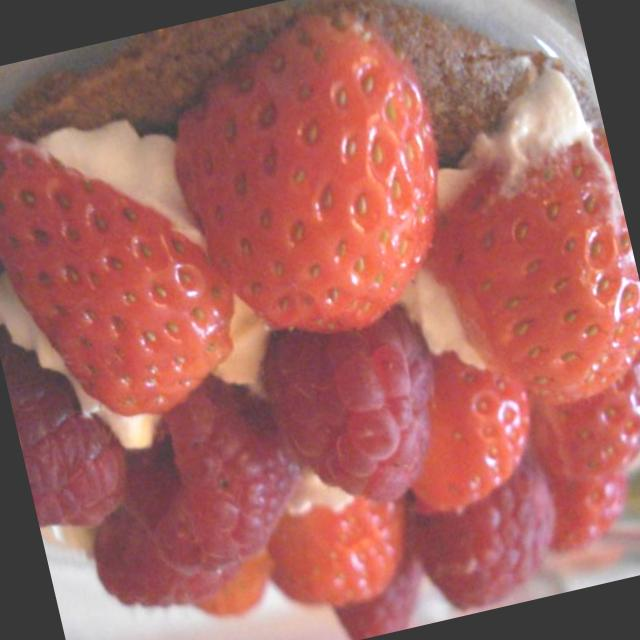Strawberry: (146, 0, 475, 363), (386, 54, 640, 430), (0, 87, 256, 445), (253, 294, 462, 524), (102, 369, 314, 587), (0, 292, 138, 539), (381, 336, 550, 522), (398, 456, 574, 621), (257, 486, 422, 620), (514, 334, 640, 493)
